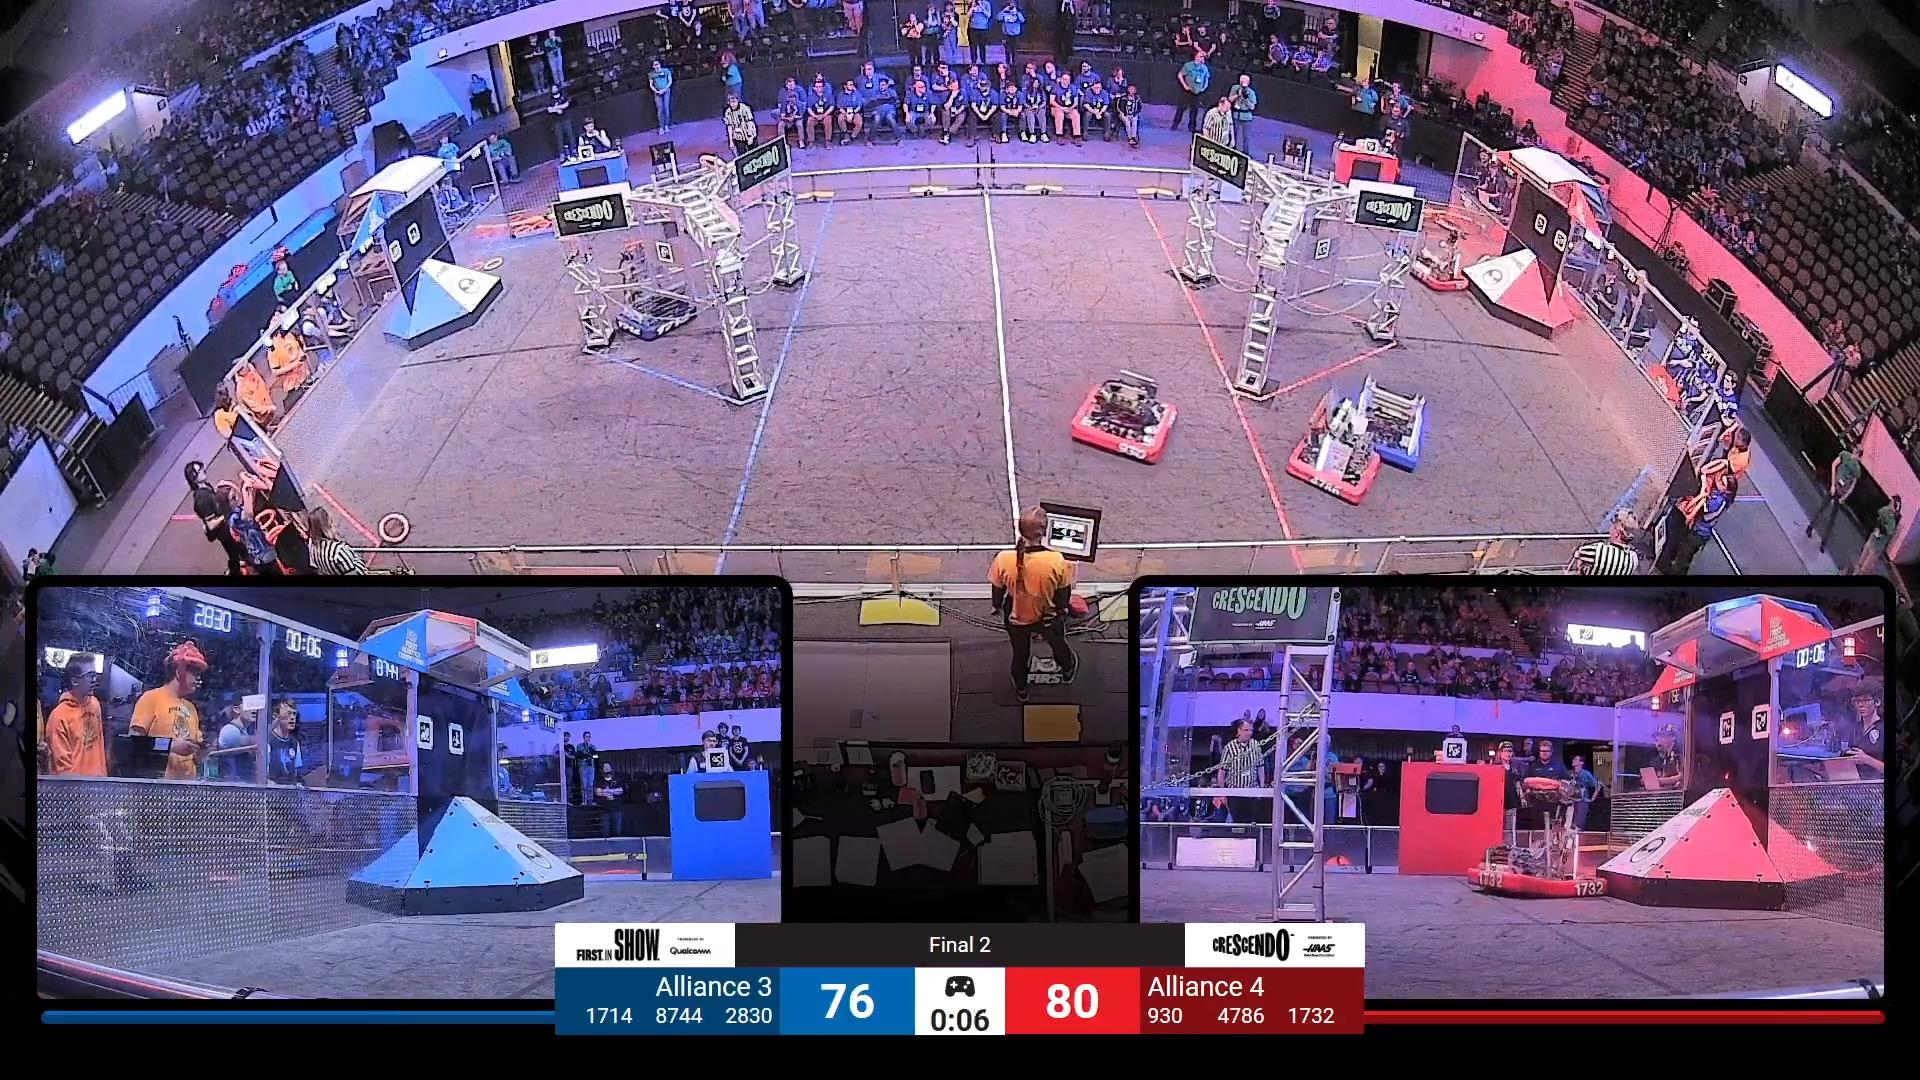robot: (1470, 770, 1606, 893), (1069, 372, 1179, 467), (1284, 393, 1379, 502), (1345, 373, 1425, 469), (612, 247, 696, 338), (1411, 235, 1473, 293)
